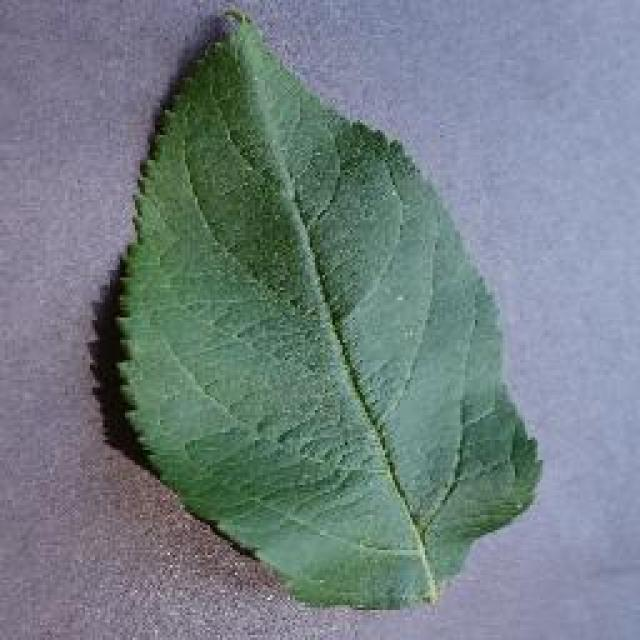apple healthy: (100, 2, 545, 612)
